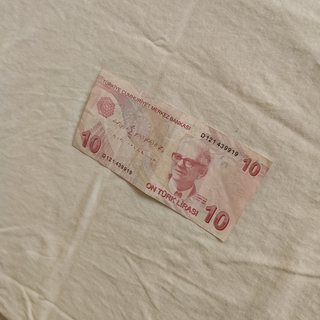10TLBack: (71, 66, 274, 243)
